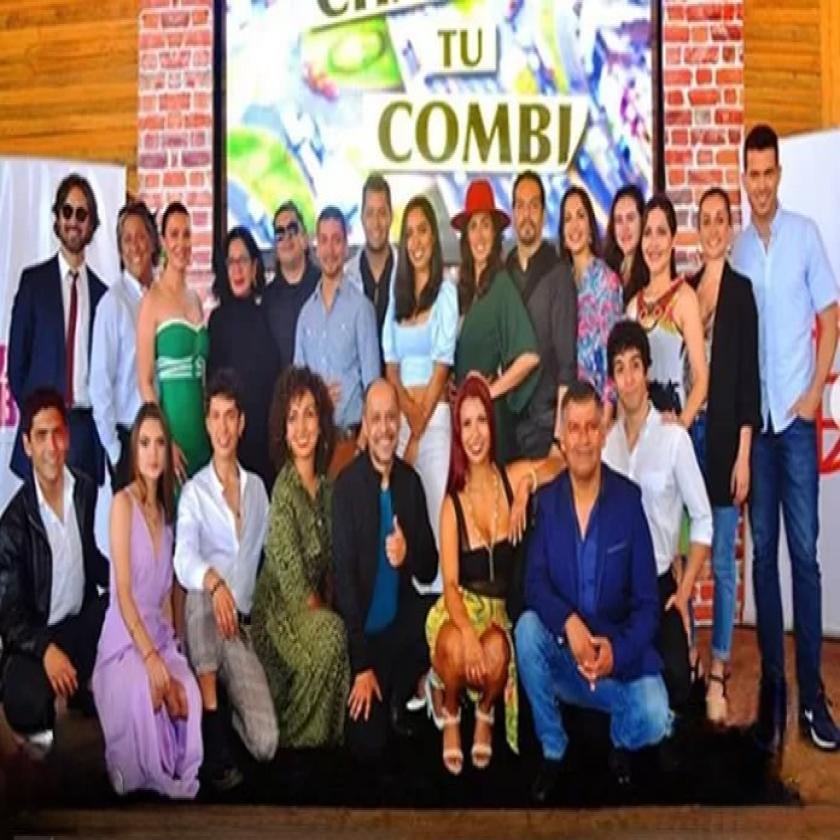Sin_casco: (549, 369, 611, 499), (741, 106, 795, 248), (270, 351, 328, 471), (608, 311, 657, 433), (52, 152, 98, 270), (686, 161, 737, 267), (26, 373, 72, 488), (130, 399, 181, 502), (363, 362, 408, 471), (204, 377, 254, 471), (110, 188, 155, 288), (398, 183, 444, 278), (219, 214, 259, 311), (161, 197, 201, 282), (446, 390, 494, 456), (512, 162, 548, 250), (274, 199, 311, 282), (318, 203, 355, 282), (642, 194, 679, 272), (363, 164, 394, 252), (605, 183, 642, 256), (560, 185, 597, 256)
